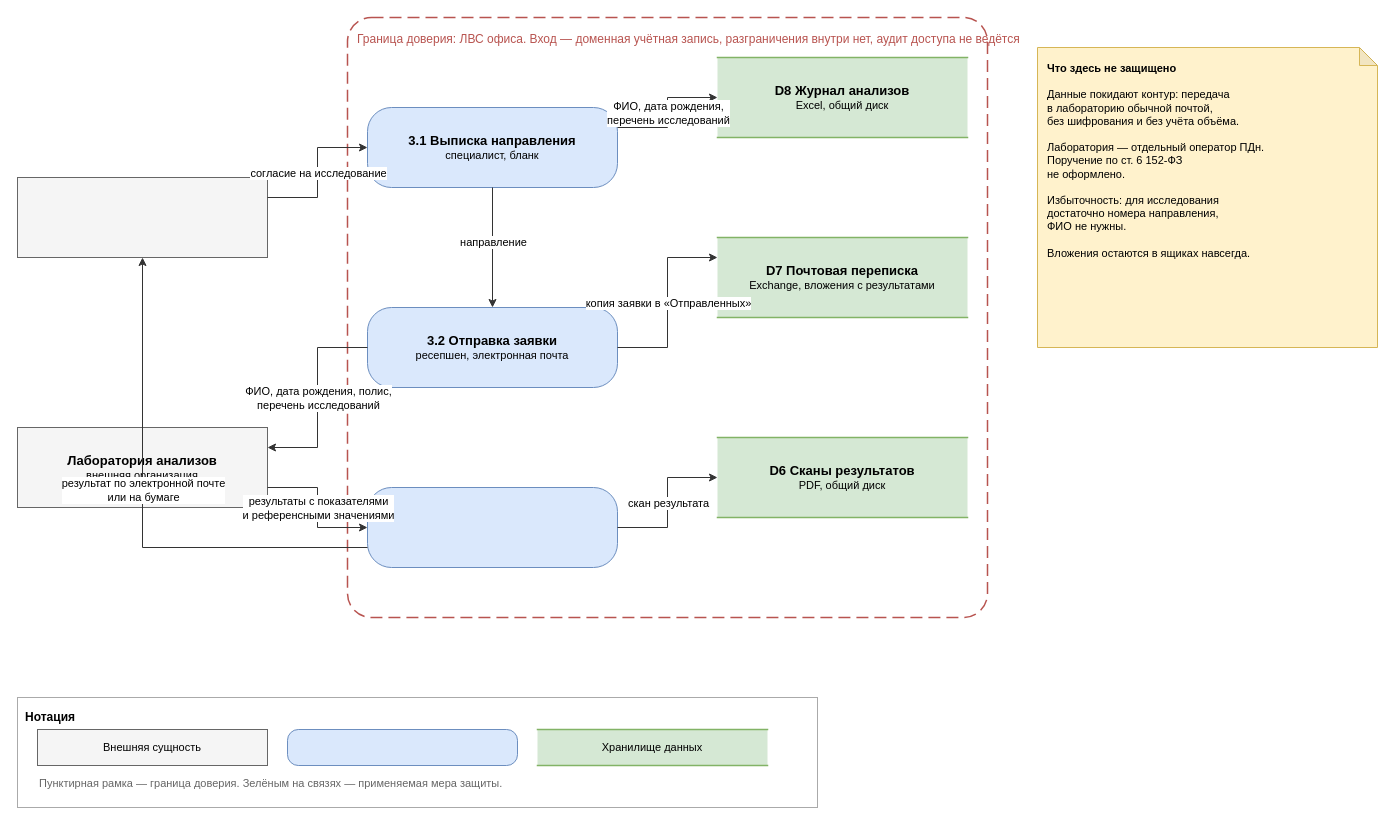
Some shapes in this 1395 by 826 pixel diagram are drawn without their labels. Here are the shapes that lost their labels. From the top down, the centre of each, then its label:
At point 142,217: "Пациент внешняя сущность".
At point 492,527: "3.3 Приём результата ресепшен, электронная почта".
At point 402,747: "Процесс".
